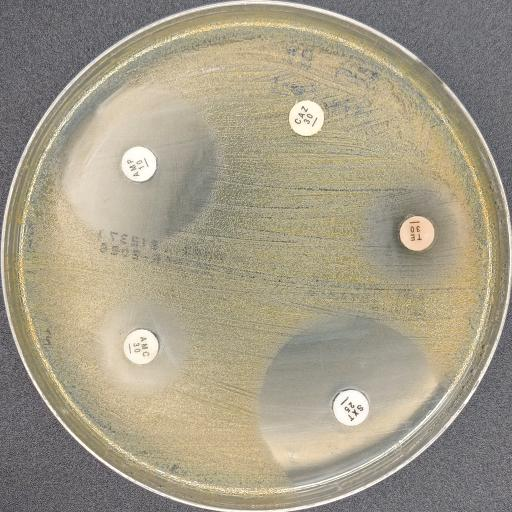disc: (120, 145, 157, 183), (398, 214, 434, 252), (332, 389, 368, 427), (288, 100, 324, 136), (123, 328, 159, 364)
